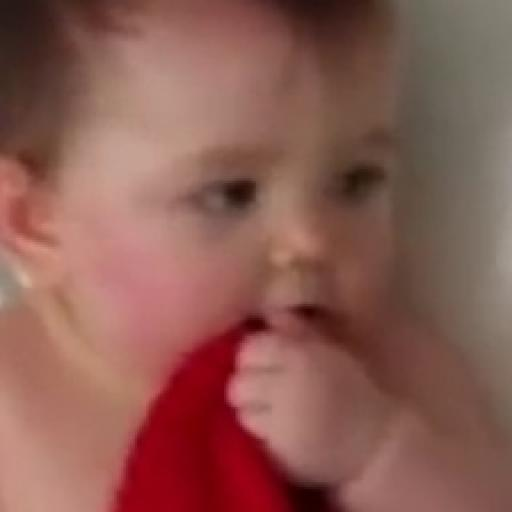Autism: (27, 20, 461, 454)
